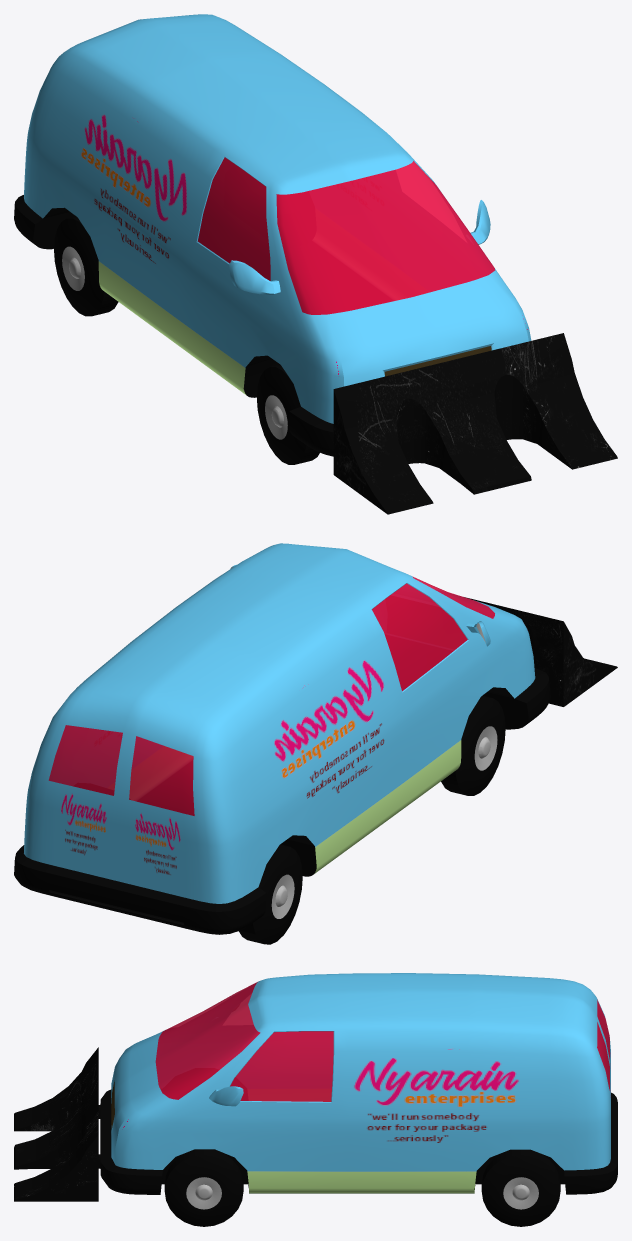
File: Delivery Time Van Opponent Enforcer.glb
3 views of the same model, one above another, from view 1: azimuth 30°, elevation 25°; view 2: azimuth 150°, elevation 25°; view 3: azimuth 270°, elevation 25° (orthographic). The views are drawn at different scales.
Visible parts, largest first — view 1: BODY-RIGID, COWFUCKER-COL, BACK.RIGHT-WHEEL, FRONT.RIGHT-WHEEL, MIRRORS; view 2: BODY-RIGID, COWFUCKER-COL, FRONT.RIGHT-WHEEL, BACK.RIGHT-WHEEL; view 3: BODY-RIGID, COWFUCKER-COL, FRONT.LEFT-WHEEL, BACK.LEFT-WHEEL, MIRRORS.
Boxes of the visible parts, x1,y1,x2,y2 form: BODY-RIGID: (14,14,531,456); COWFUCKER-COL: (333,333,617,514); BACK.RIGHT-WHEEL: (54,216,118,316); FRONT.RIGHT-WHEEL: (256,364,319,464); MIRRORS: (229,200,490,294); BODY-RIGID: (14,543,550,934); COWFUCKER-COL: (464,597,617,706); FRONT.RIGHT-WHEEL: (441,695,505,795); BACK.RIGHT-WHEEL: (239,844,302,944); BODY-RIGID: (100,973,617,1194); COWFUCKER-COL: (14,1047,100,1201); FRONT.LEFT-WHEEL: (164,1149,243,1226); BACK.LEFT-WHEEL: (481,1149,560,1226); MIRRORS: (209,1086,243,1106).
Size of the model in its own units: 2.22 by 2.11 by 5.82.
Materials: 8 (2 with a texture image).
